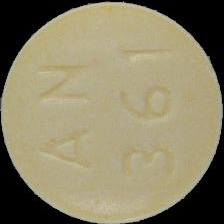50436-3845: (0, 0, 224, 224)
